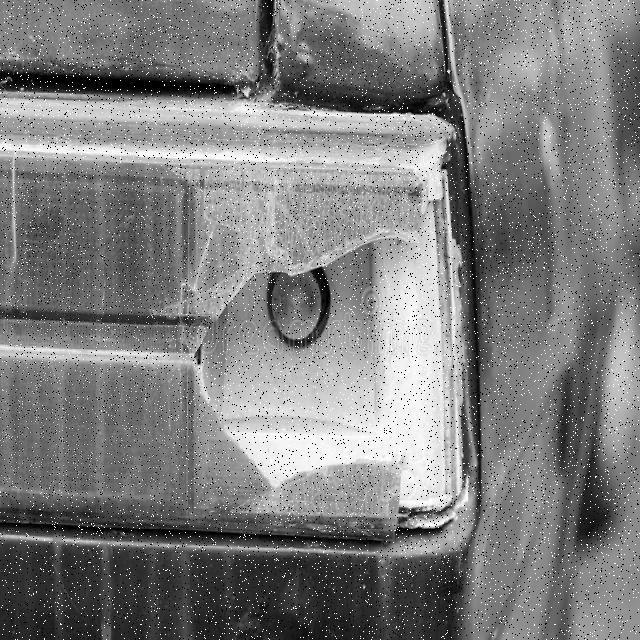Taillight-Damage: (1, 82, 510, 571)
